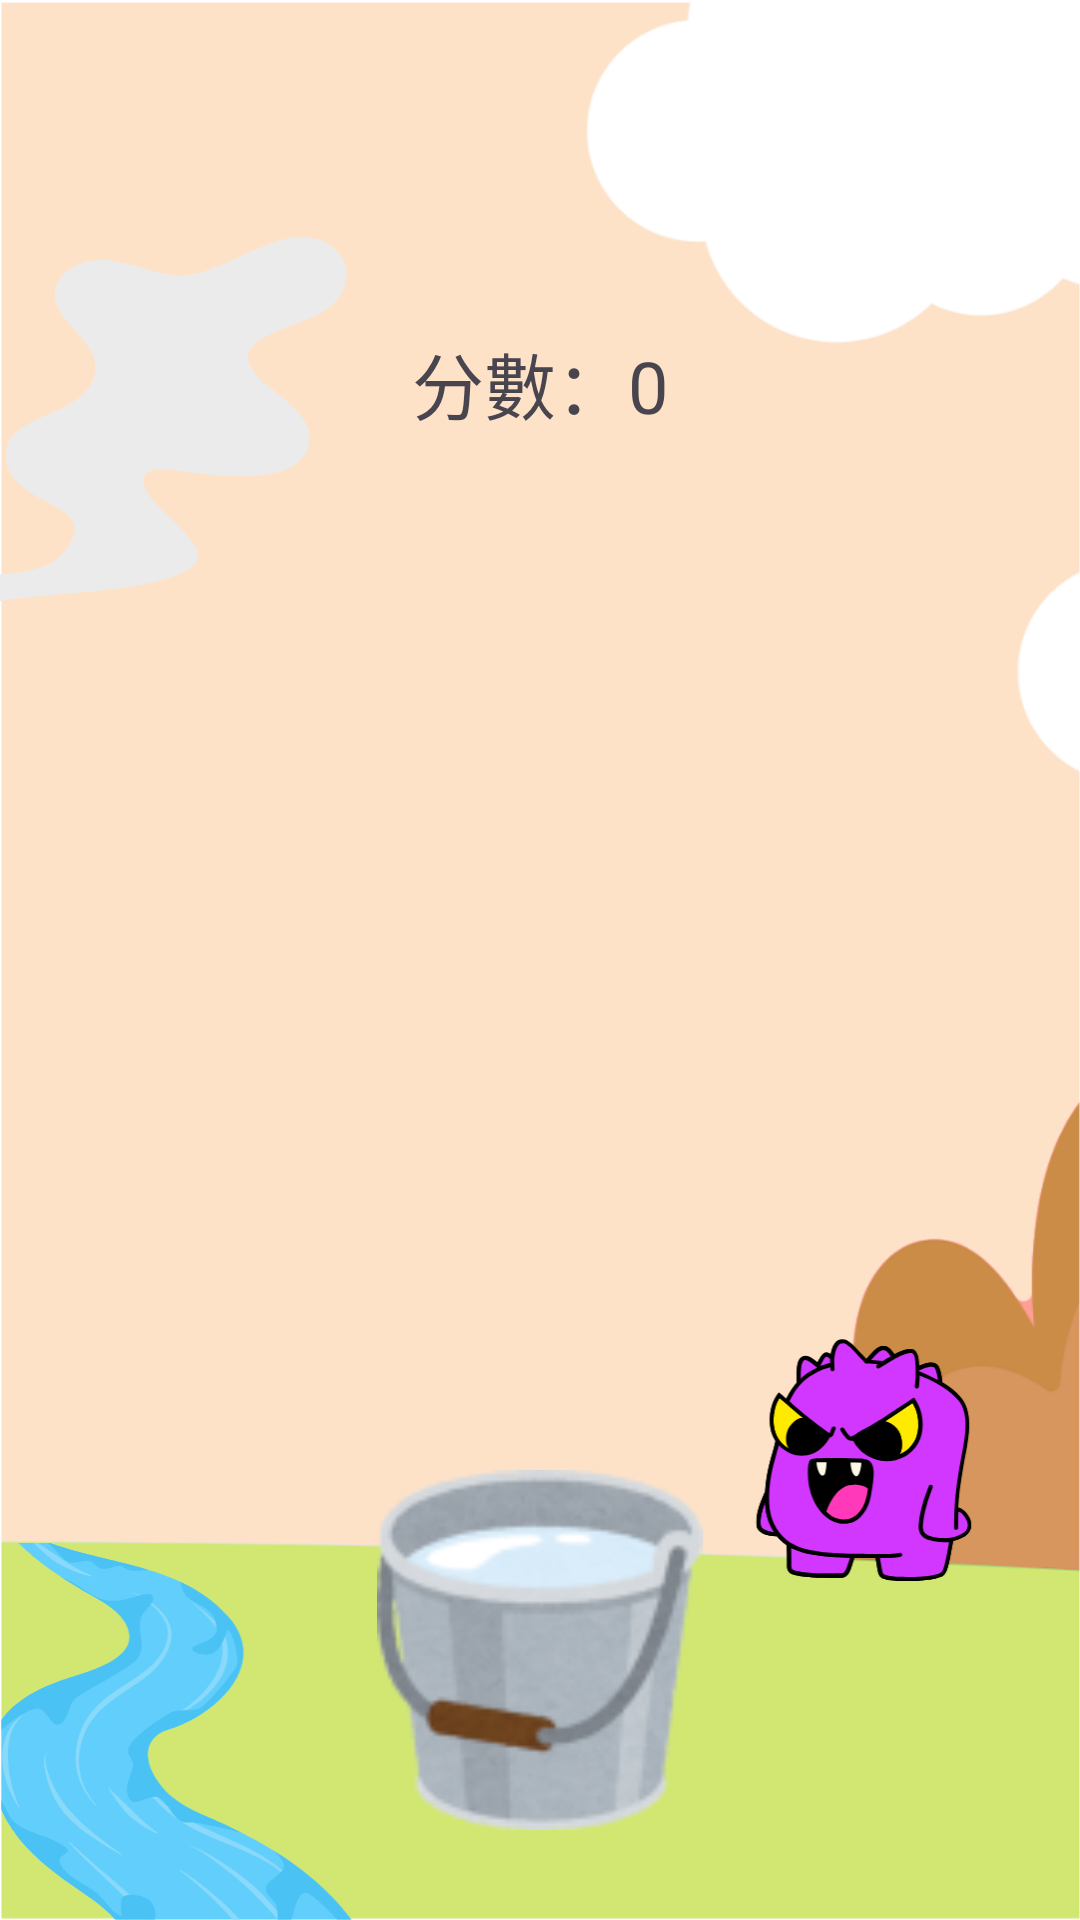

Point at icon controls on the screen. Image size 1080x1920, points as (x=x, y=y).
bucket: (x=540, y=1650)
